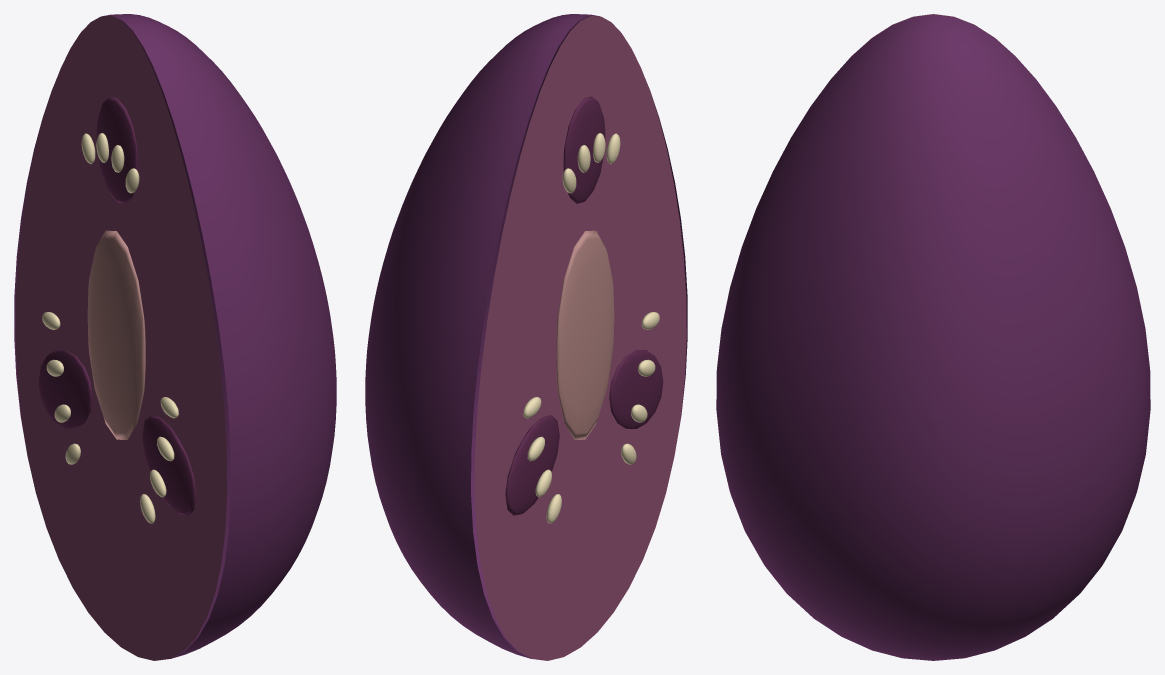
The model's file is event_rainbow_violet_half.glb.
3 renders of one model, left to right at view 1: azimuth 30°, elevation 25°; view 2: azimuth 150°, elevation 25°; view 3: azimuth 270°, elevation 25°, orthographic.
Visible parts, largest first — view 1: violet archive violet moist cut flesh, violet archive violet heirloom skin, violet archive violet pale pith, violet archive violet seed chambers, violet archive Ivory archive seeds; view 2: violet archive violet moist cut flesh, violet archive violet heirloom skin, violet archive violet pale pith, violet archive violet seed chambers, violet archive Ivory archive seeds; view 3: violet archive violet heirloom skin.
Part boxes in pixels (x1,y1,x2,y2): violet archive violet moist cut flesh: (15,16,227,660); violet archive violet heirloom skin: (14,14,336,658); violet archive violet pale pith: (87,230,145,439); violet archive violet seed chambers: (38,96,196,515); violet archive Ivory archive seeds: (42,133,178,523); violet archive violet moist cut flesh: (474,16,686,660); violet archive violet heirloom skin: (365,14,687,658); violet archive violet pale pith: (556,230,614,439); violet archive violet seed chambers: (505,96,663,515); violet archive Ivory archive seeds: (523,133,659,523); violet archive violet heirloom skin: (716,14,1150,660).
Size of the model in its own units: 0.5036 by 1.44 by 0.9029.
